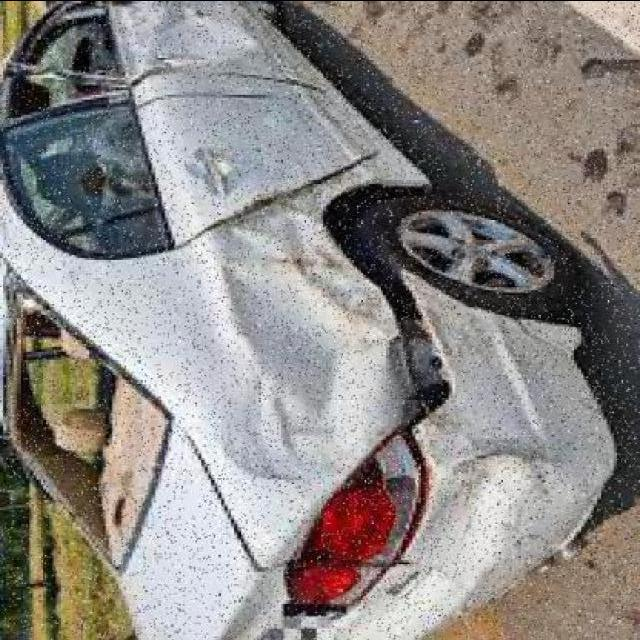doorouter-dent: (132, 82, 340, 220), (115, 1, 319, 78)
quaterpanel-dent: (240, 200, 432, 544), (176, 233, 430, 441)
rear-bumper-dent: (399, 280, 596, 640)
